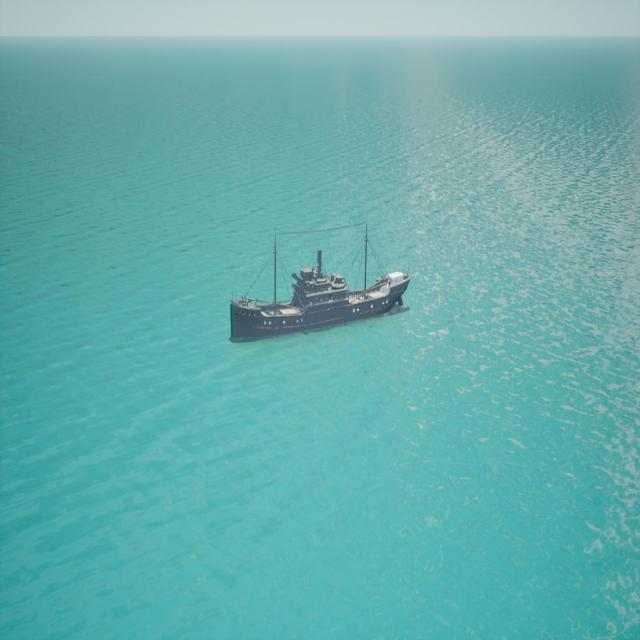fishing ship: (231, 234, 411, 343)
